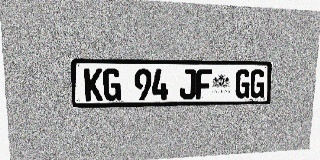4: (152, 69, 169, 100)
9: (135, 69, 151, 100)
F: (196, 69, 212, 99)
G: (103, 68, 121, 101), (235, 69, 251, 98), (249, 69, 265, 98)
J: (180, 69, 196, 99)
K: (84, 68, 103, 101)
